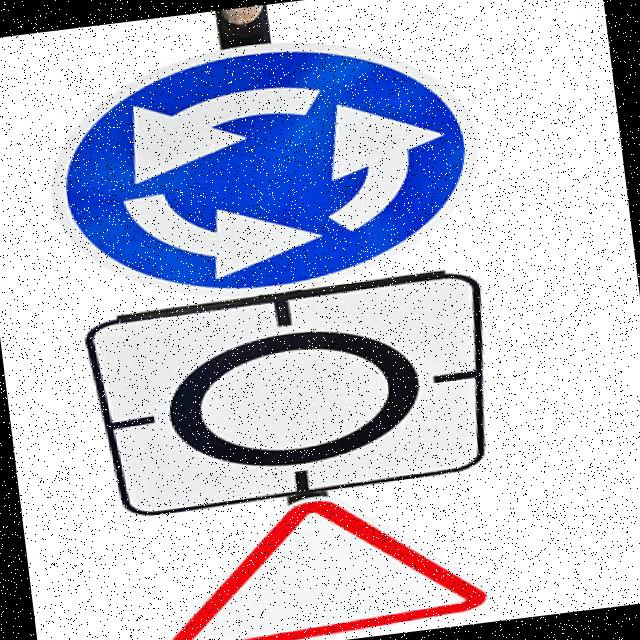round_about: (33, 17, 486, 316)
